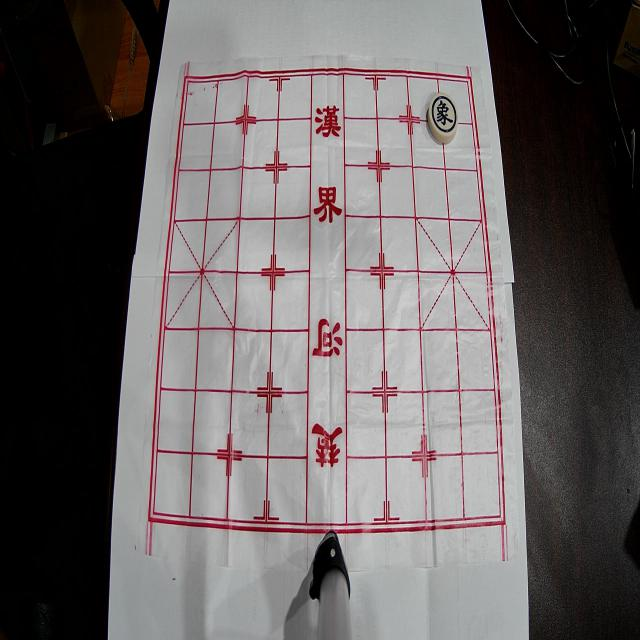black-elephant: (428, 93, 458, 143)
